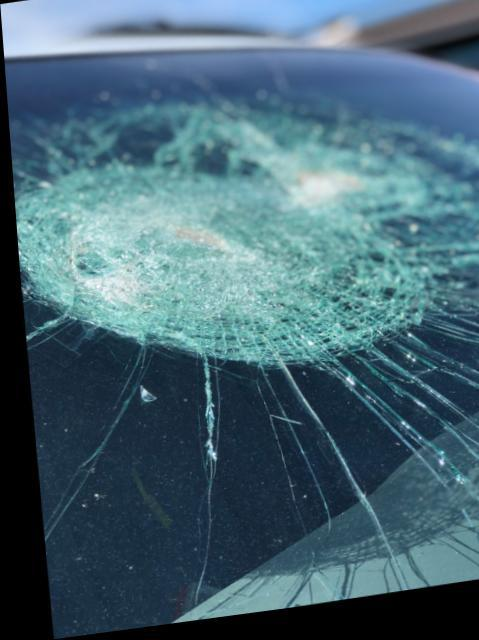glass shatter: (3, 57, 479, 639)
